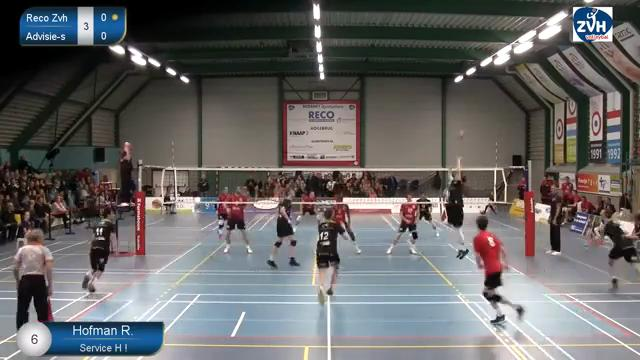Player: (473, 216, 523, 324), (316, 209, 348, 303), (82, 208, 116, 293), (604, 220, 639, 289), (267, 198, 299, 268), (224, 188, 252, 253), (387, 195, 417, 254), (333, 194, 360, 253), (417, 193, 438, 236), (217, 187, 231, 239), (300, 191, 316, 215)
Set: (439, 147, 477, 263)
ball: (456, 129, 466, 141)
